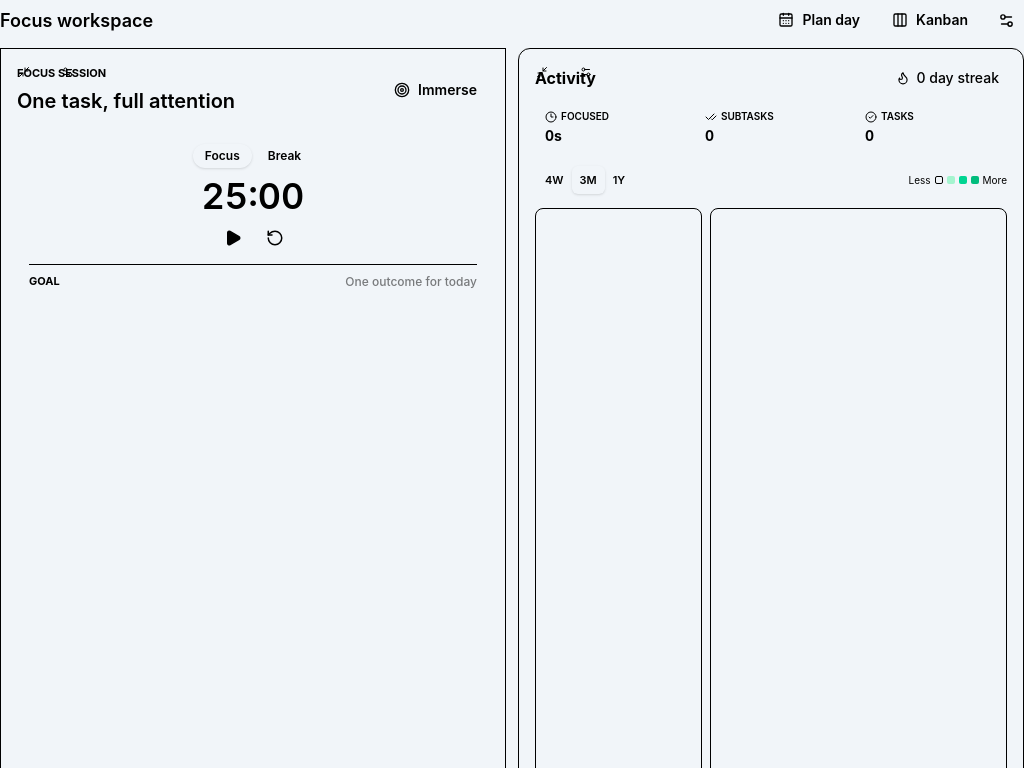
Scenario: MainWorkspace › renders four equal quarters with paired utilities and opens Kanban on a shared surface
Click the button with aria-label "Open Kanban". click: (930, 20)
box: top-left (880, 0), bottom-right (980, 40)
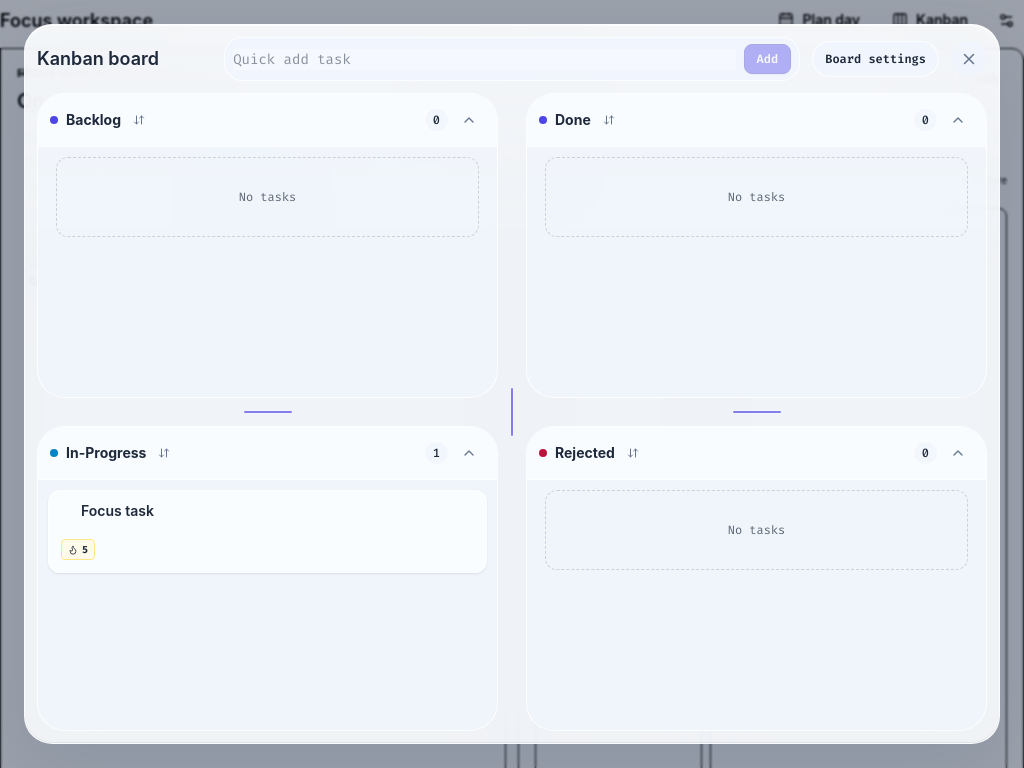
Expected: the element with test id "kanban-board" is shown
Expected: the heading "In-Progress" is shown, top-left (50, 445), bottom-right (146, 461)
